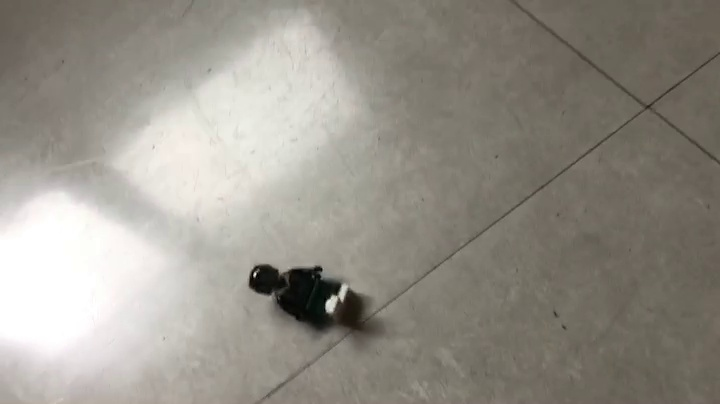people: (250, 261, 364, 329)
